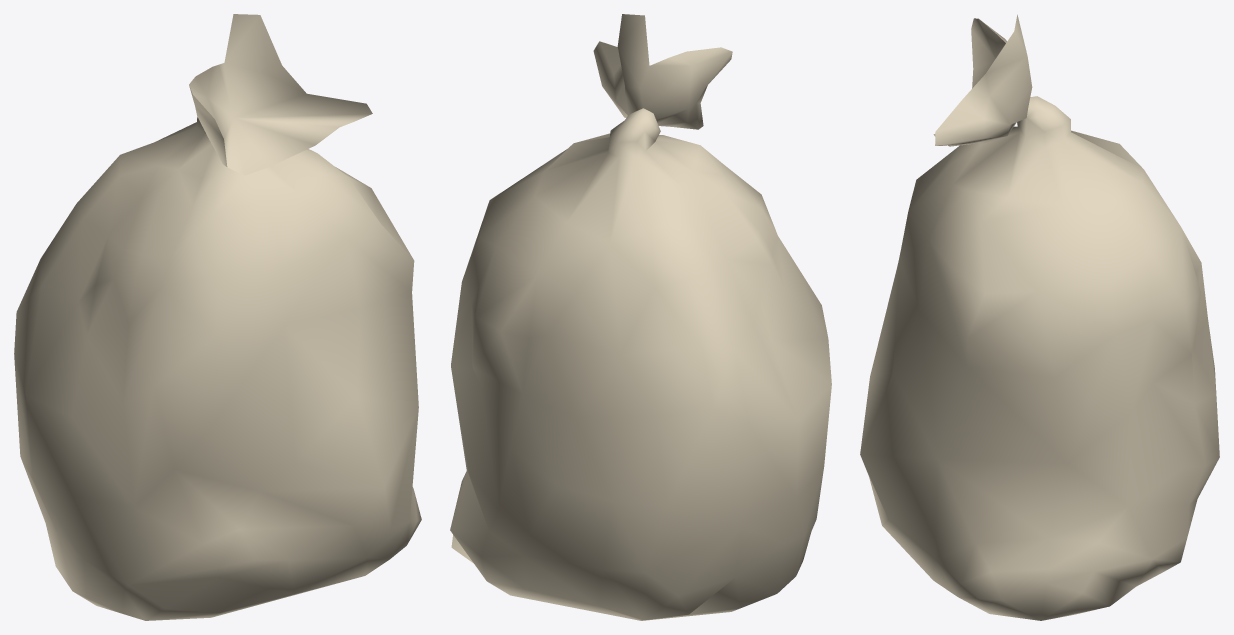
Rendered from Rubbish_Bag_B_Snaps004.FBX.
3 views of the same model, side by side, from view 1: azimuth 30°, elevation 25°; view 2: azimuth 150°, elevation 25°; view 3: azimuth 270°, elevation 25° (orthographic). The views are drawn at different scales.
Visible parts, largest first — view 1: Geometry_Rubbish_Bag_B_LOD00; view 2: Geometry_Rubbish_Bag_B_LOD00; view 3: Geometry_Rubbish_Bag_B_LOD00.
Boxes of the visible parts, bbox=[...] form: Geometry_Rubbish_Bag_B_LOD00: bbox=[14, 14, 421, 620]; Geometry_Rubbish_Bag_B_LOD00: bbox=[450, 14, 831, 620]; Geometry_Rubbish_Bag_B_LOD00: bbox=[860, 14, 1219, 620].
Size of what is drawn, in the model's own units: 38.88 by 59.8 by 36.14.
